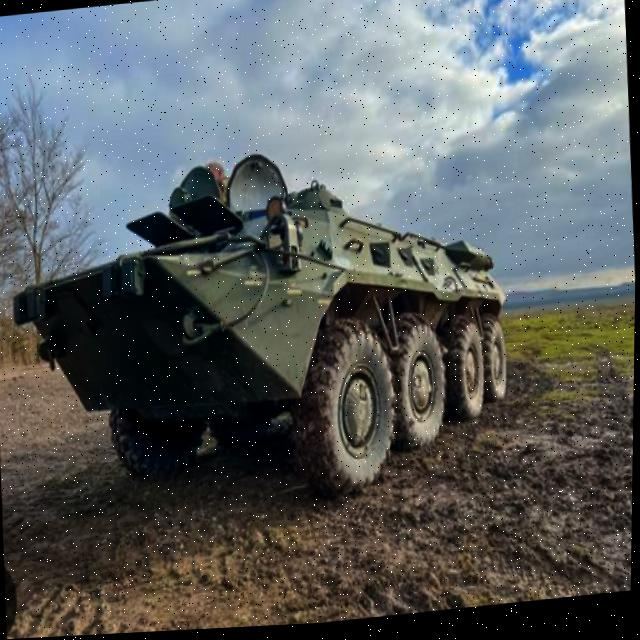MIL_APC: (0, 156, 535, 512)
